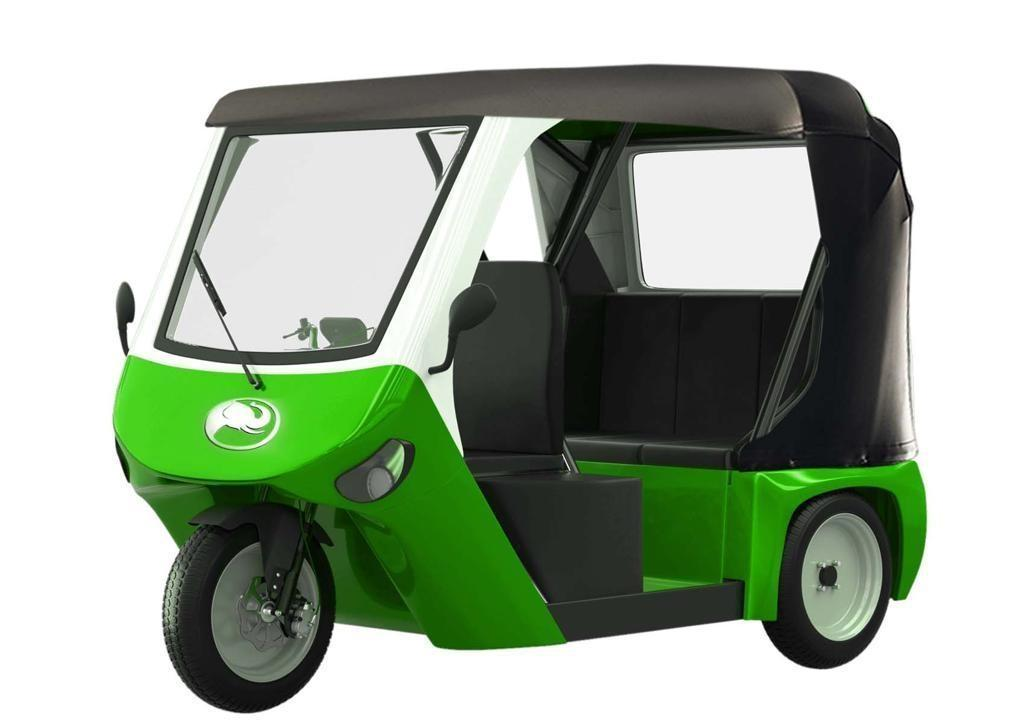keke: (53, 41, 958, 719)
